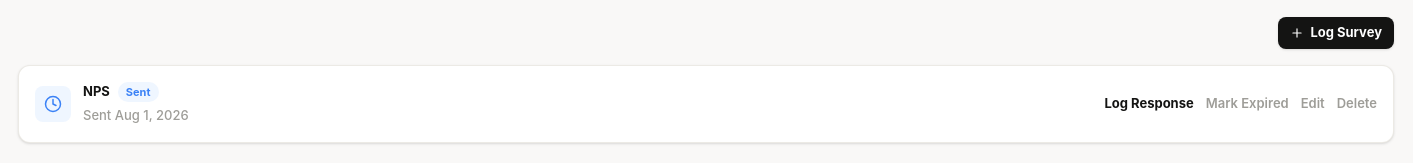
SurveysTab on an organization (moved from the old organization page) › marking a sent survey Expired from the Surveys filter PATCHes its status
Click the button "Mark Expired": (1247, 104) x1=1206 y1=94 x2=1289 y2=114
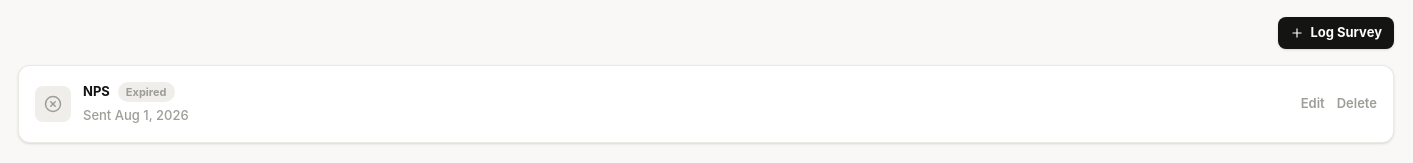
Expected: the text "Expired" is shown, x1=118 y1=82 x2=175 y2=102
